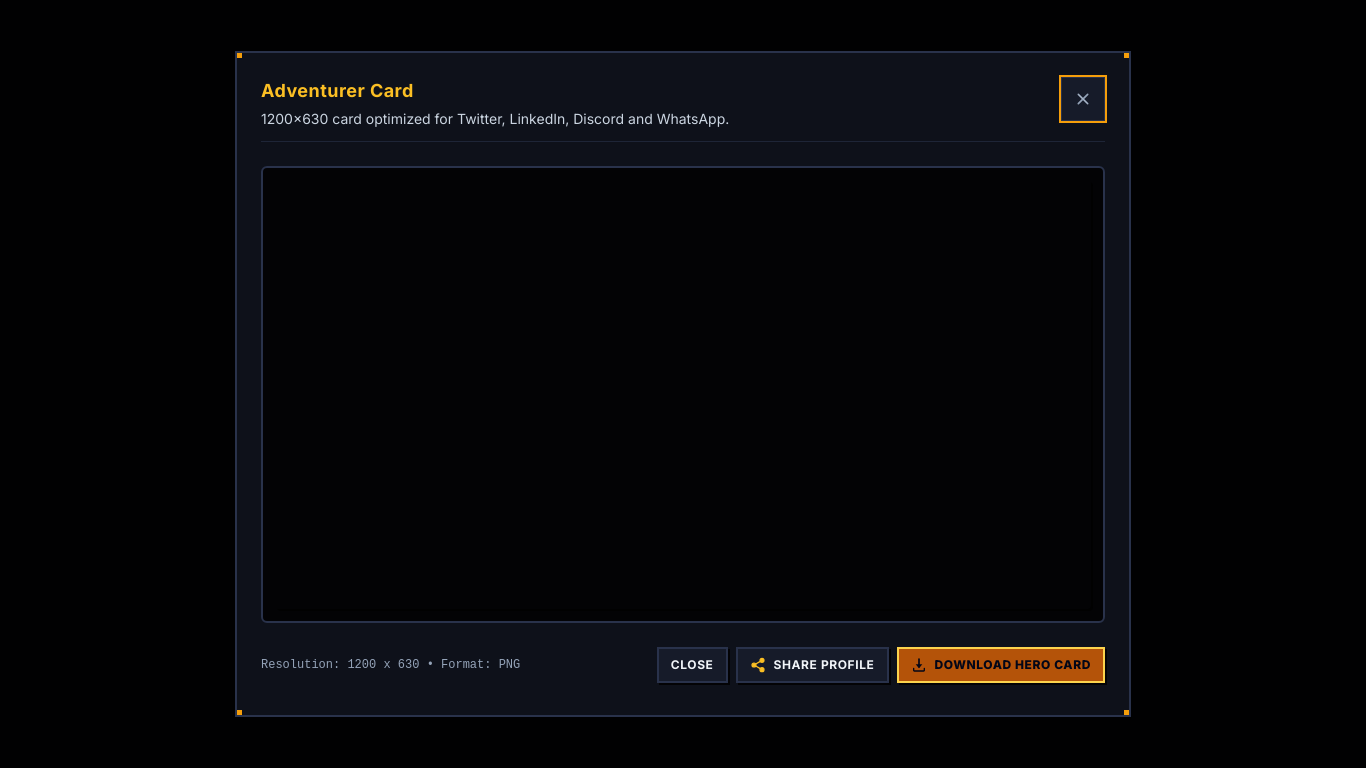
Test case: ShareCardModal: share profile › says 'Link copied!' in English
Click the button "Share profile" at [812, 665], box x1=736 y1=647 x2=888 y2=683
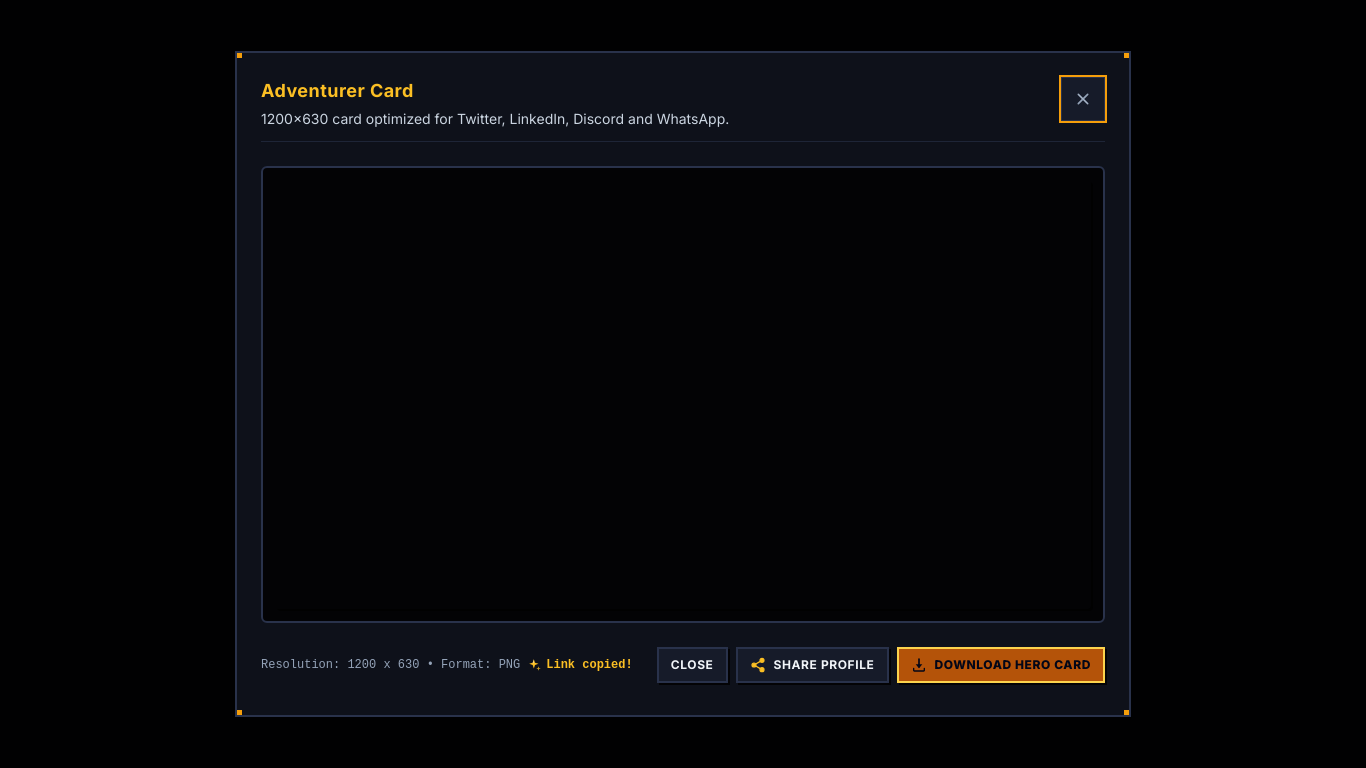
Expected: the text "Link copied!" is shown, x1=528 y1=657 x2=633 y2=673
